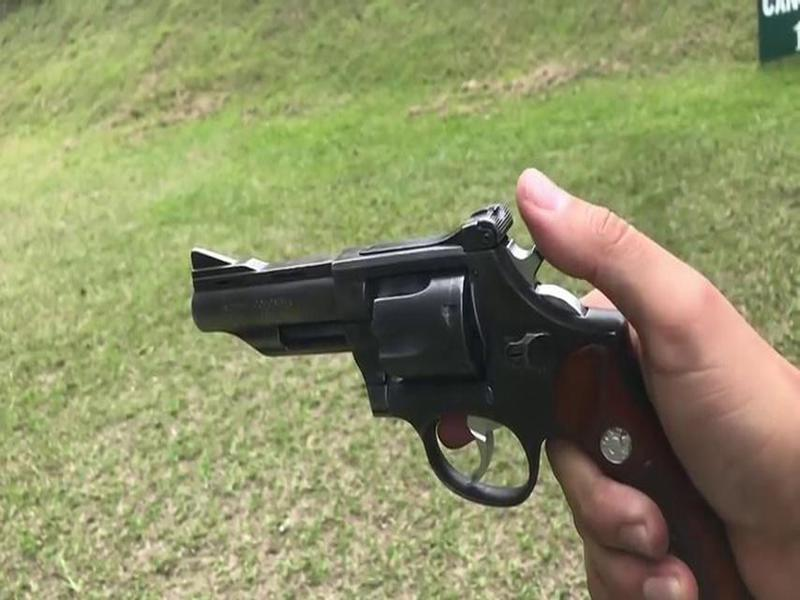Revolver: (162, 174, 672, 561)
